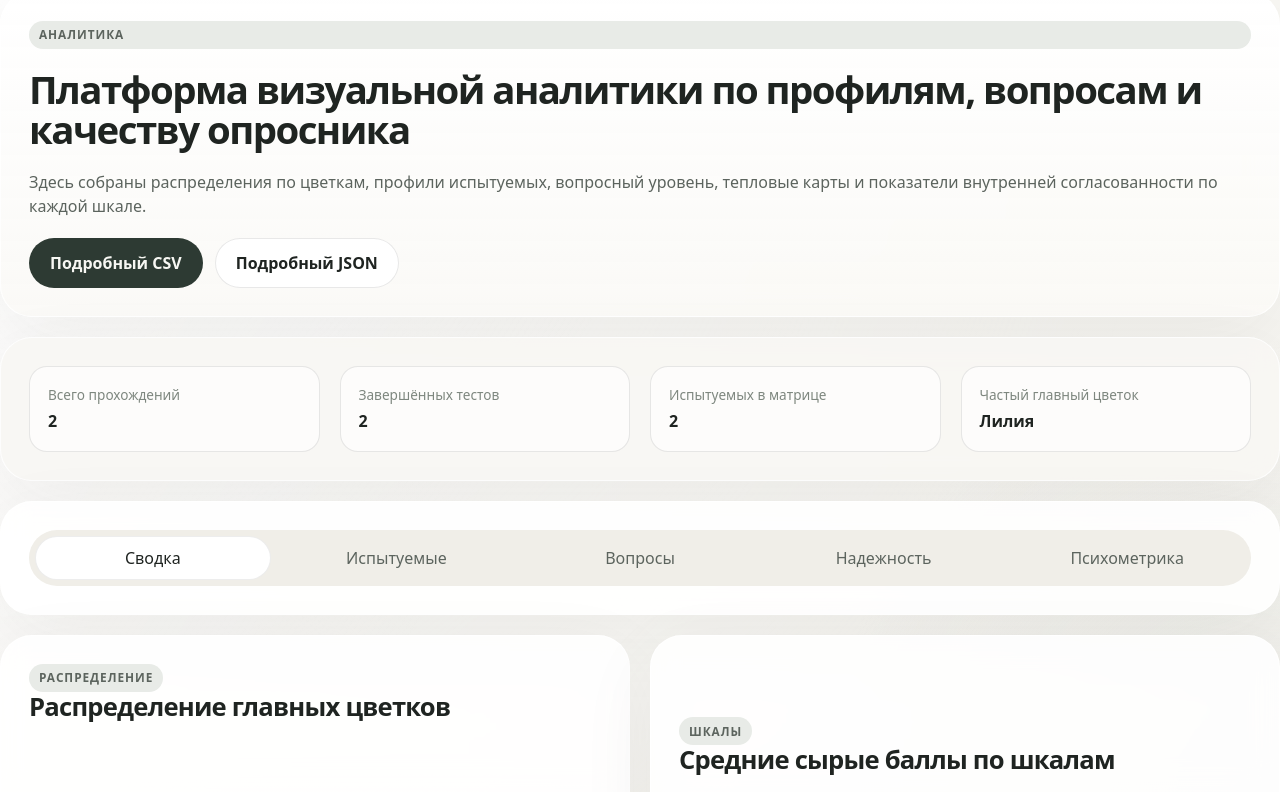
Test case: AdminAnalyticsDashboard › closes respondent modal by the dismiss button
Click the button "Испытуемые". click: (396, 558)
box: [279,536,514,580]
(page scrolled)
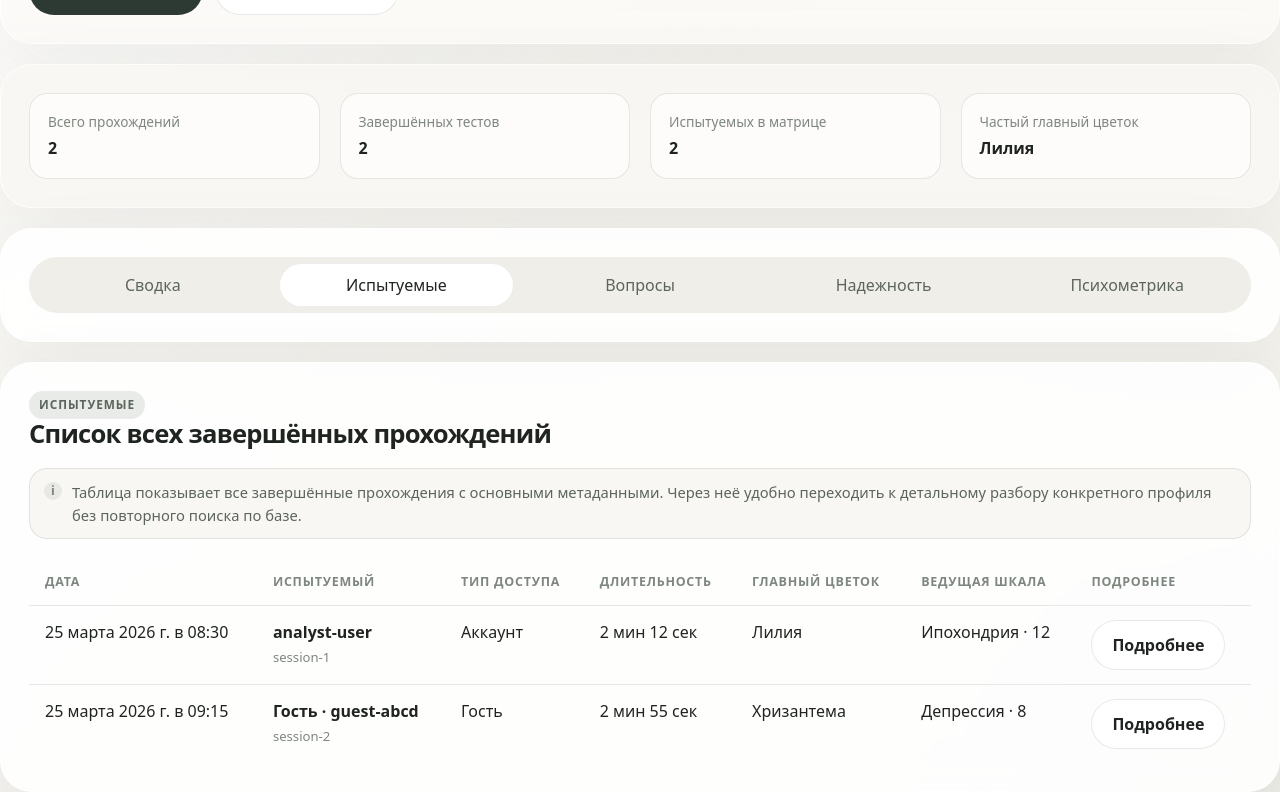
Click the button "Подробнее" in the row of "25 марта 2026 г. в 08:30". click: (1158, 645)
box: [1091,620,1225,670]
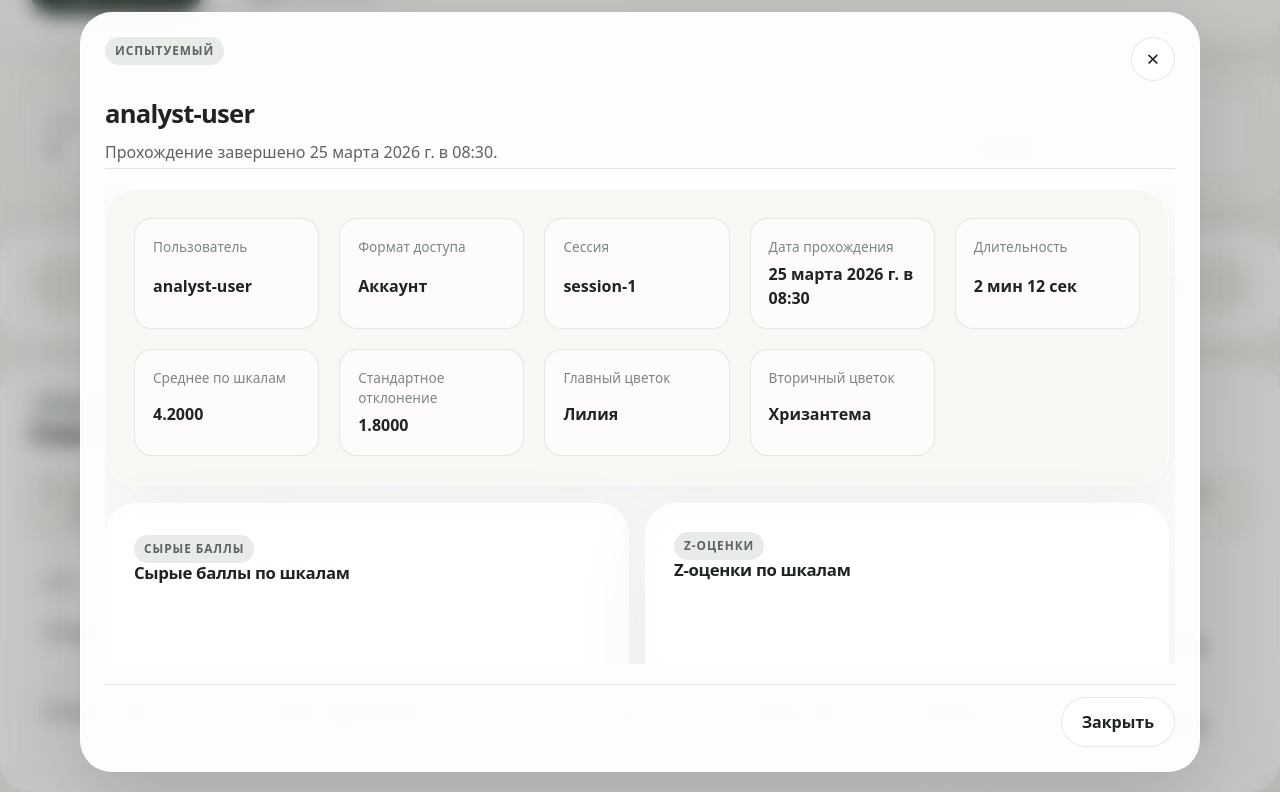
Click the button named "Закрыть окно". click: (1153, 59)
box: [1131,37,1175,81]
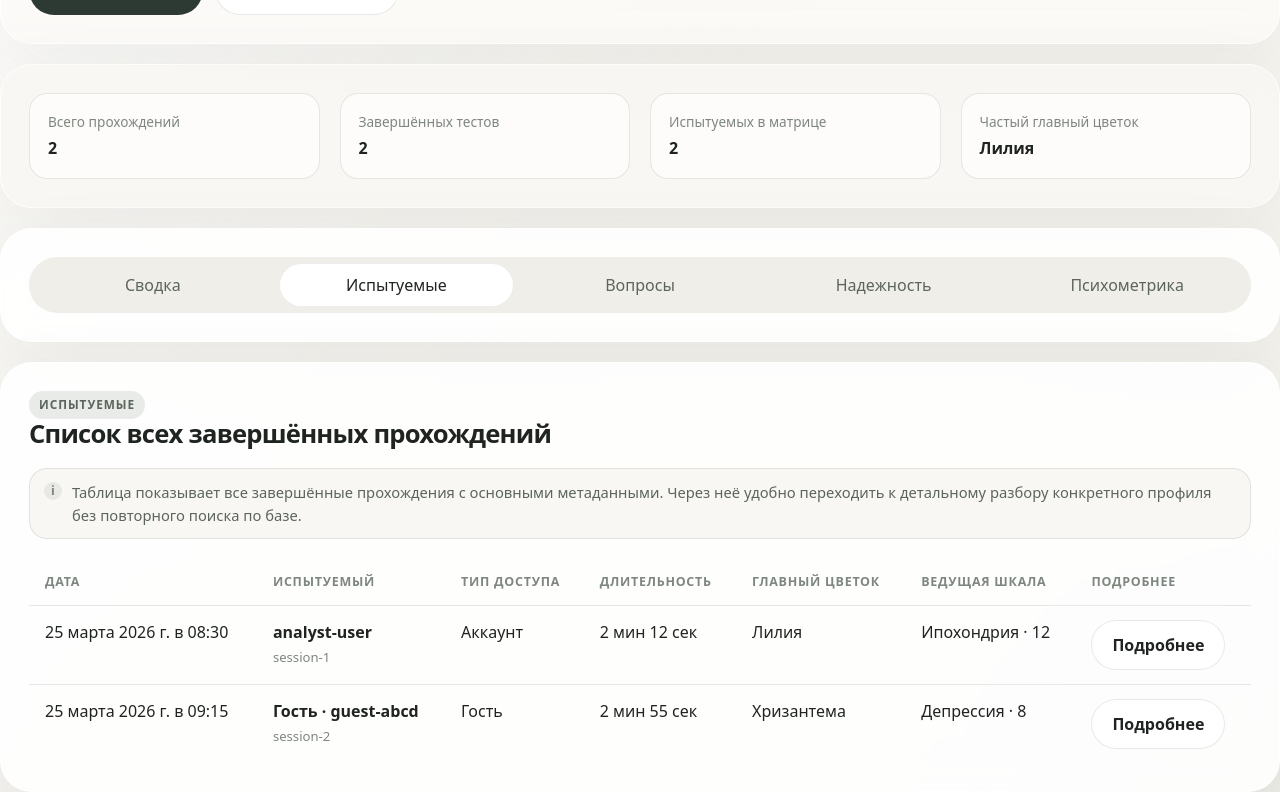
Expected: the dialog is gone
